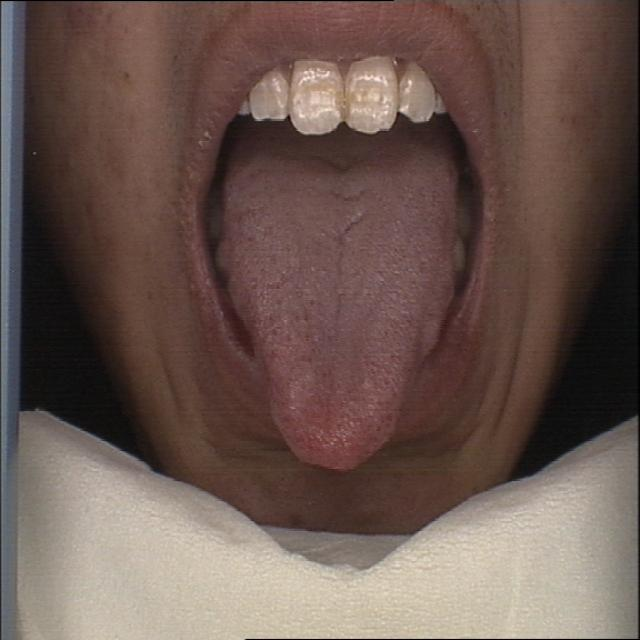tongue: (221, 130, 459, 482)
